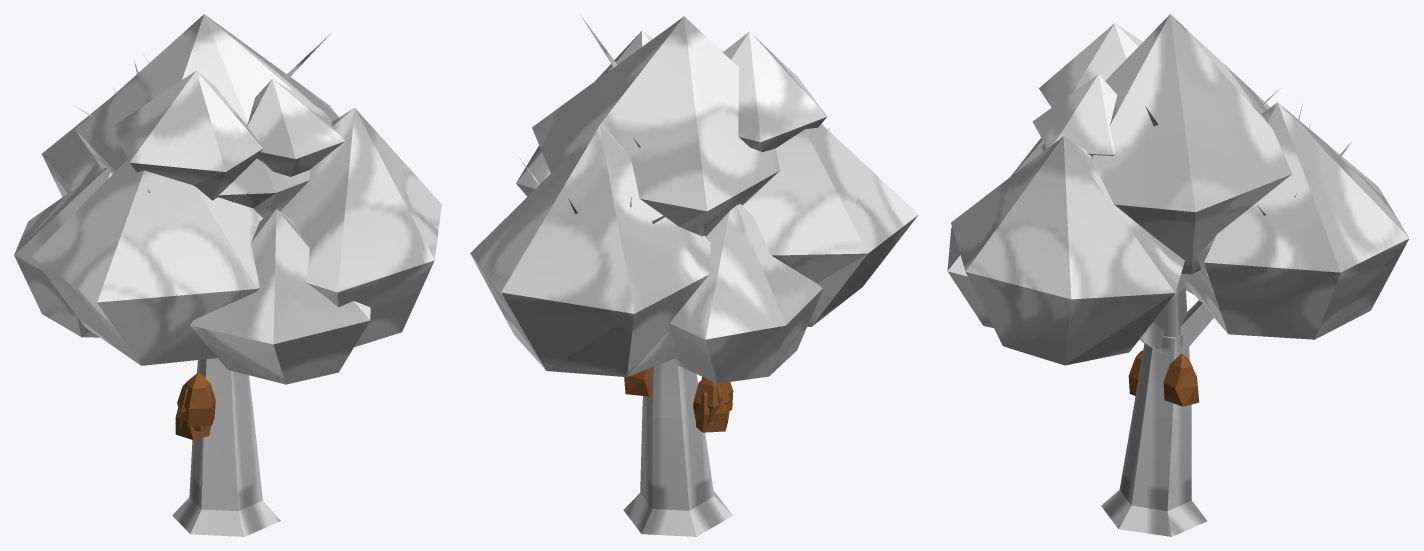
File: tree_cocoa.obj
3 views of the same model, side by side, from view 1: azimuth 30°, elevation 25°; view 2: azimuth 150°, elevation 25°; view 3: azimuth 270°, elevation 25° (orthographic). The views are drawn at different scales.
Visible parts, largest first — view 1: tree_cocoa; view 2: tree_cocoa; view 3: tree_cocoa.
Part boxes in pixels (x1,y1,x2,y2): tree_cocoa: (14, 14, 441, 536); tree_cocoa: (470, 16, 918, 536); tree_cocoa: (947, 14, 1409, 536).
Size of the model in its own units: 0.6072 by 0.8041 by 0.6788.
